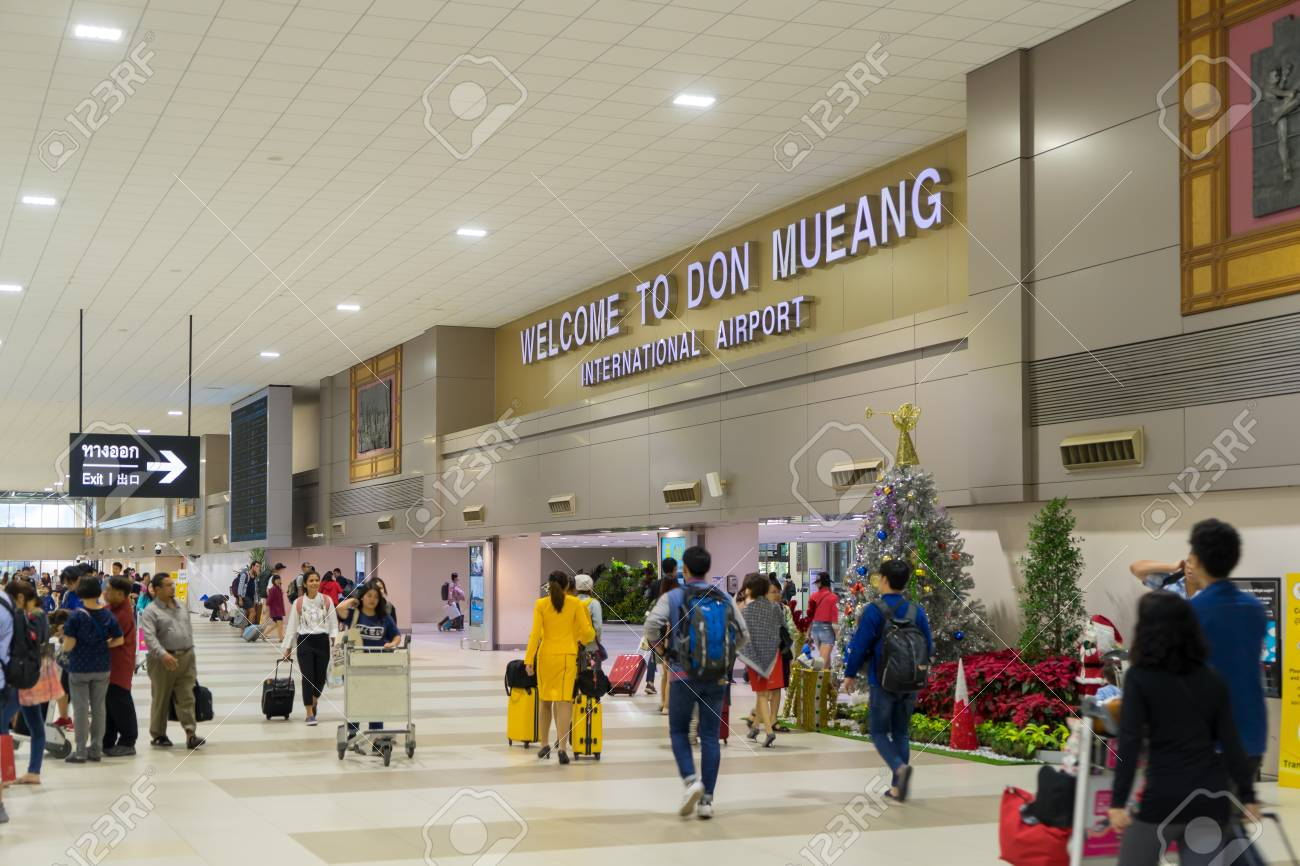backpack: (666, 585, 741, 687), (864, 597, 934, 700), (1, 592, 41, 698), (96, 680, 143, 755)
bag: (575, 659, 613, 702), (507, 657, 543, 692)
luggage: (499, 681, 547, 757), (250, 654, 302, 723), (567, 691, 606, 765)
people: (841, 547, 940, 809), (655, 550, 735, 832), (516, 575, 601, 761), (136, 567, 218, 756), (53, 571, 128, 763), (727, 571, 802, 746), (268, 571, 342, 728), (339, 588, 407, 663)
